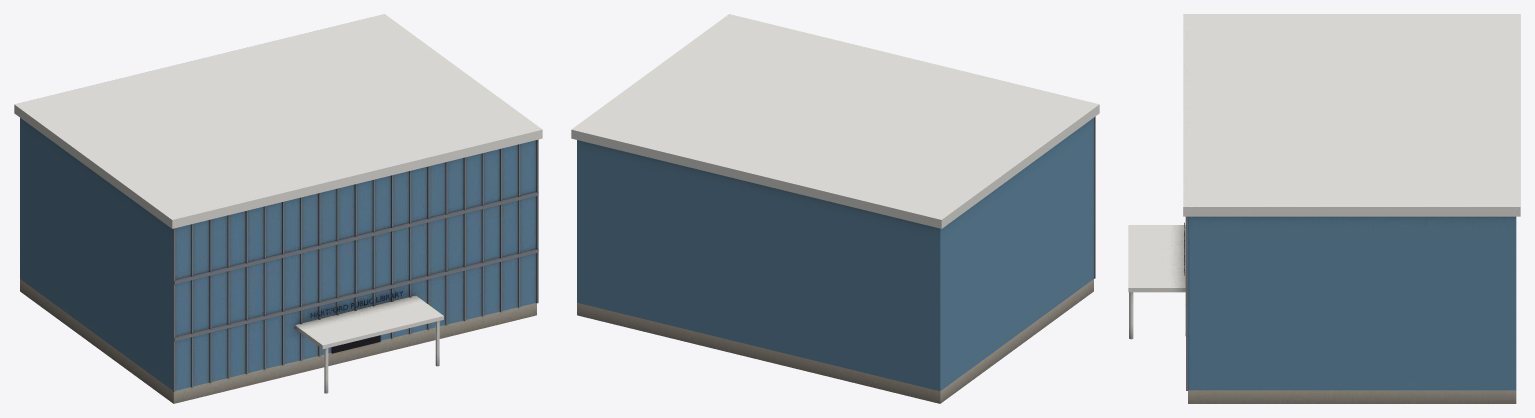
File: biblioteca_hfd.glb
The picture shows the model from 3 angles, left to right: view 1: azimuth 30°, elevation 25°; view 2: azimuth 150°, elevation 25°; view 3: azimuth 270°, elevation 25°; orthographic projection. The views are drawn at different scales.
Visible parts, largest first — view 1: biblioteca_hfd; view 2: biblioteca_hfd; view 3: biblioteca_hfd.
Boxes of the visible parts, bbox=[...] form: biblioteca_hfd: bbox=[14, 14, 542, 403]; biblioteca_hfd: bbox=[571, 14, 1099, 403]; biblioteca_hfd: bbox=[1128, 14, 1520, 403].
Size of the model in its own units: 30.6 by 14.7 by 26.3.
Materials: 1 (1 with a texture image).
